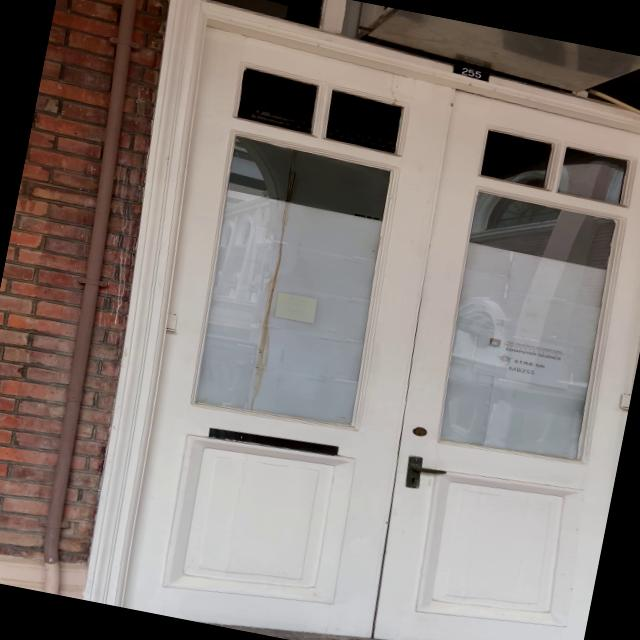room255: (452, 64, 490, 82)
